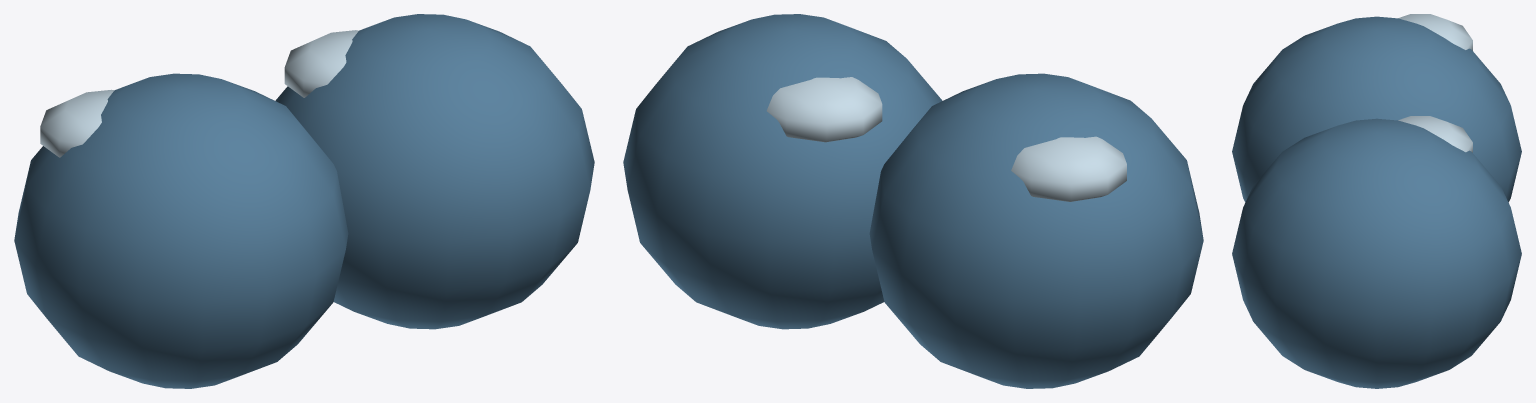
The model's file is newshd-228-f2.glb.
3 views of the same model, side by side, from view 1: azimuth 30°, elevation 25°; view 2: azimuth 150°, elevation 25°; view 3: azimuth 270°, elevation 25° (orthographic). The views are drawn at different scales.
Visible parts, largest first — view 1: newshd-228-f2; view 2: newshd-228-f2; view 3: newshd-228-f2.
Boxes of the visible parts, left/top/right/bottom form: newshd-228-f2: left=14, top=14, right=594, bottom=388; newshd-228-f2: left=623, top=14, right=1203, bottom=388; newshd-228-f2: left=1232, top=14, right=1521, bottom=388.
Size of the model in its own units: 0.7333 by 0.368 by 0.4.
